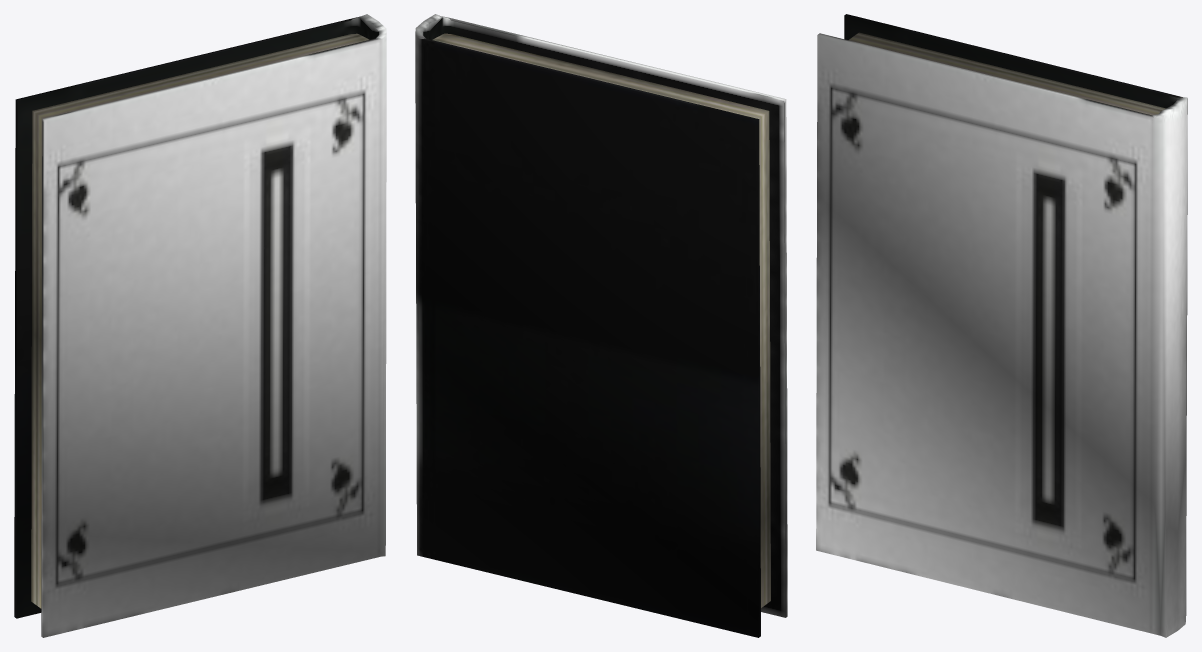
File: frl_apartment_book_04.glb
3 views of the same model, side by side, from view 1: azimuth 30°, elevation 25°; view 2: azimuth 150°, elevation 25°; view 3: azimuth 330°, elevation 25° (orthographic).
Parts seen in each view (by area): view 1: frl_apartment_book_04; view 2: frl_apartment_book_04; view 3: frl_apartment_book_04.
Boxes of the visible parts, left/top/right/bottom form: frl_apartment_book_04: left=14, top=14, right=386, bottom=637; frl_apartment_book_04: left=415, top=14, right=787, bottom=637; frl_apartment_book_04: left=816, top=14, right=1187, bottom=637.
Bounding box in the file's own units: 0.1059 × 0.1528 × 0.0153.
1 material, 1 textured.
